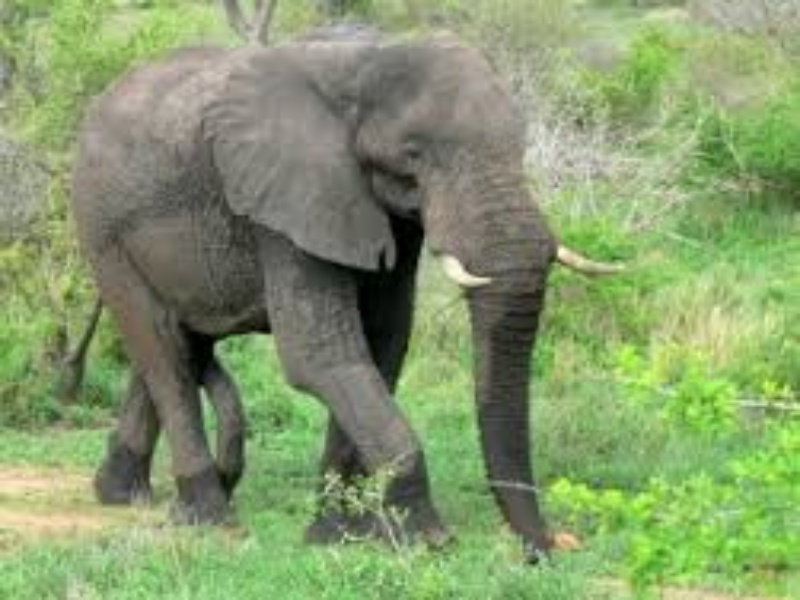elephant: (52, 22, 632, 539)
